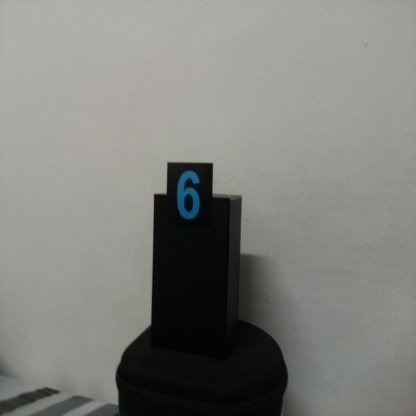id_6: (166, 164, 213, 237)
